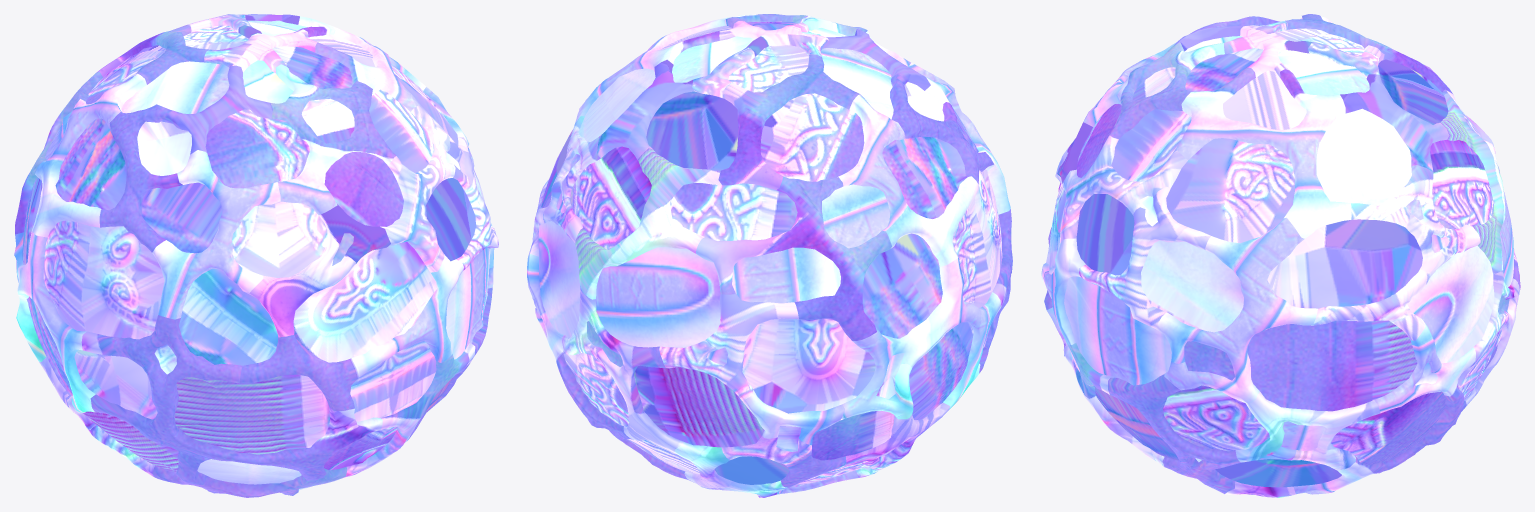
The model's file is pertifBlood(c - Sinomedet).fbx.
3 renders of one model, left to right at view 1: azimuth 30°, elevation 25°; view 2: azimuth 150°, elevation 25°; view 3: azimuth 270°, elevation 25°, orthographic.
Visible parts, largest first — view 1: Object_2; view 2: Object_2; view 3: Object_2.
Part boxes in pixels (left/top/right/bottom): Object_2: left=14, top=14, right=498, bottom=497; Object_2: left=527, top=14, right=1012, bottom=497; Object_2: left=1041, top=14, right=1520, bottom=497.
Bounding box in the file's own units: 96993 × 96691 × 96184.
